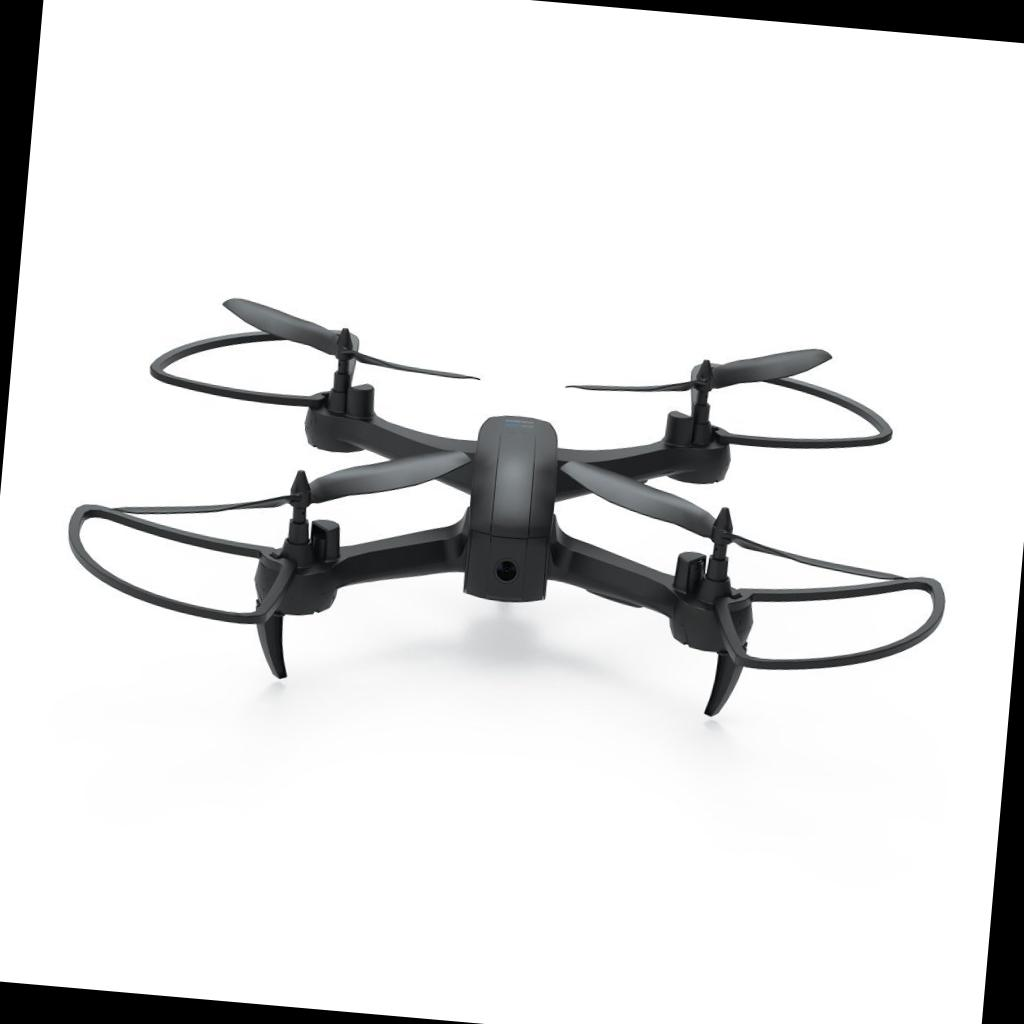drone: (64, 276, 1004, 747)
